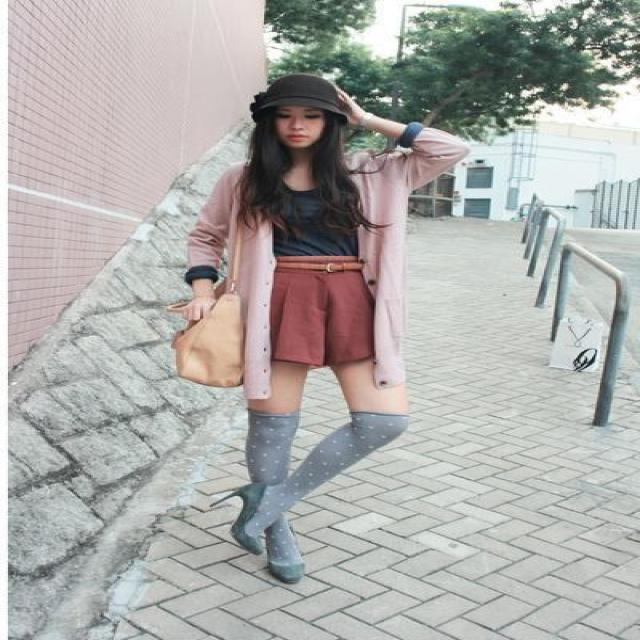bag: (162, 302, 246, 387)
hat: (254, 75, 352, 114)
jacket: (158, 126, 485, 411)
shirt: (262, 192, 357, 261)
shoe: (211, 485, 301, 591)
shorts: (270, 256, 376, 379)
